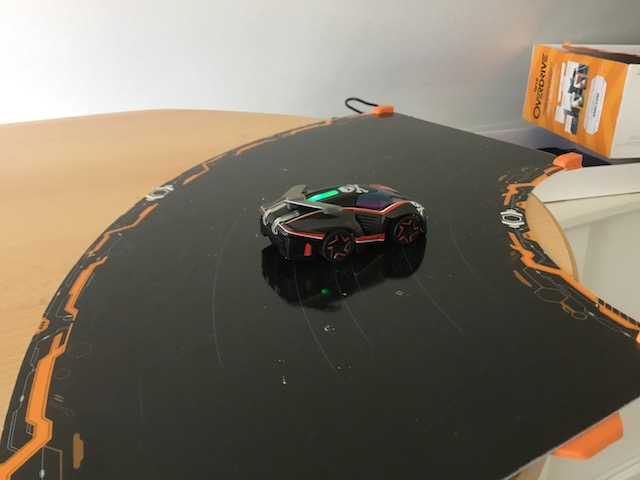car-red: (254, 178, 431, 270)
